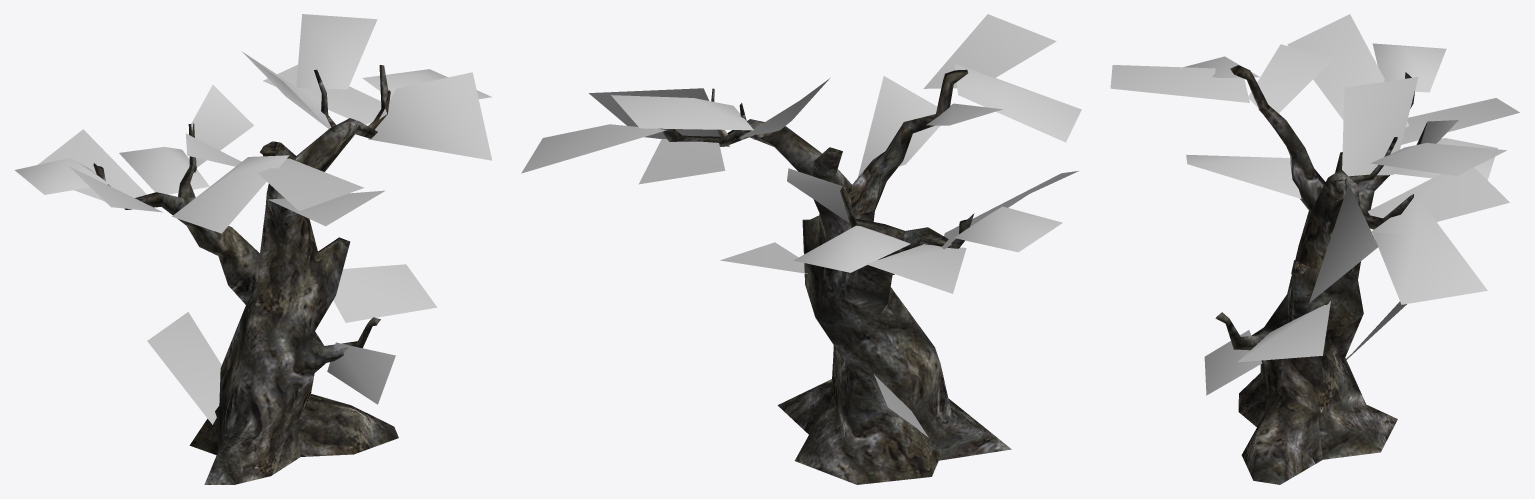
The picture shows the model from 3 angles, left to right: view 1: azimuth 30°, elevation 25°; view 2: azimuth 150°, elevation 25°; view 3: azimuth 270°, elevation 25°; orthographic projection. The views are drawn at different scales.
Parts seen in each view (by area): view 1: object19; view 2: object19; view 3: object19.
Boxes of the visible parts, x1,y1,x2,y2 form: object19: (14, 14, 492, 484); object19: (521, 14, 1081, 484); object19: (1110, 14, 1519, 484).
Bounding box in the file's own units: 717 × 517 × 528.
